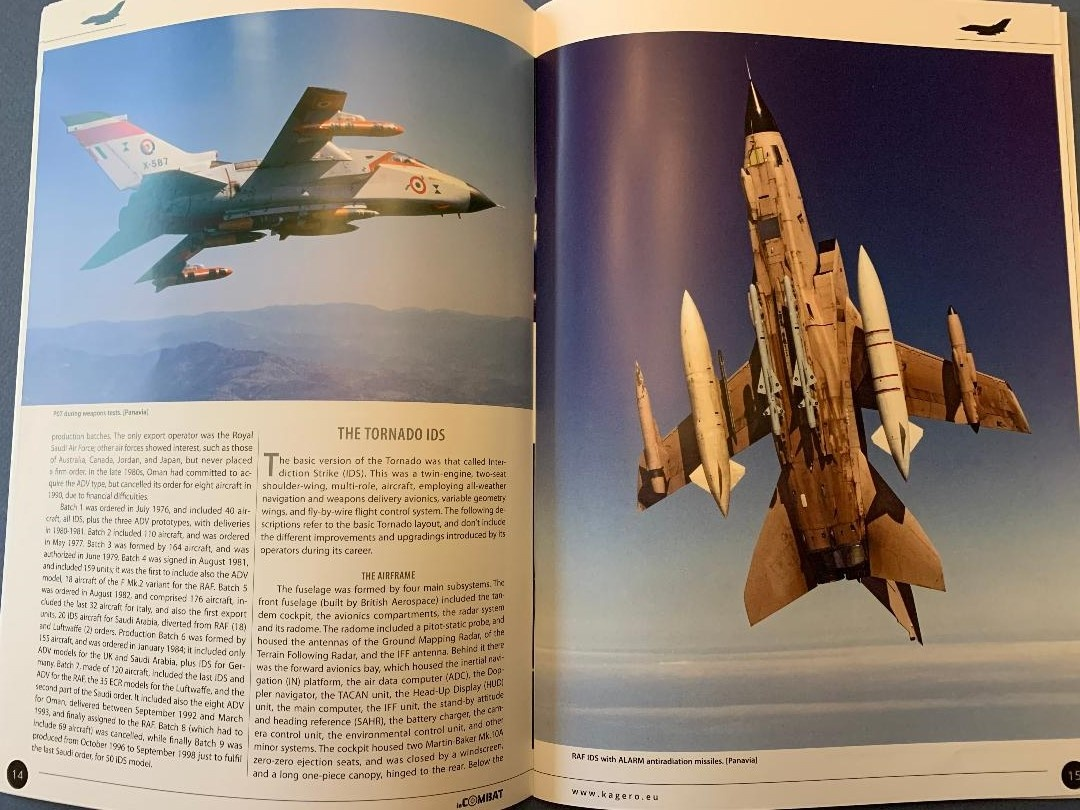Tornado: (634, 53, 1033, 647), (59, 84, 509, 294)
